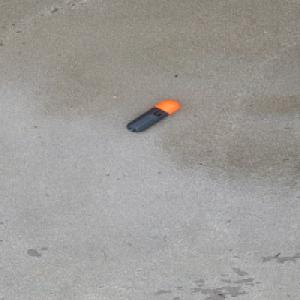PlasticPart: (125, 99, 181, 133)
